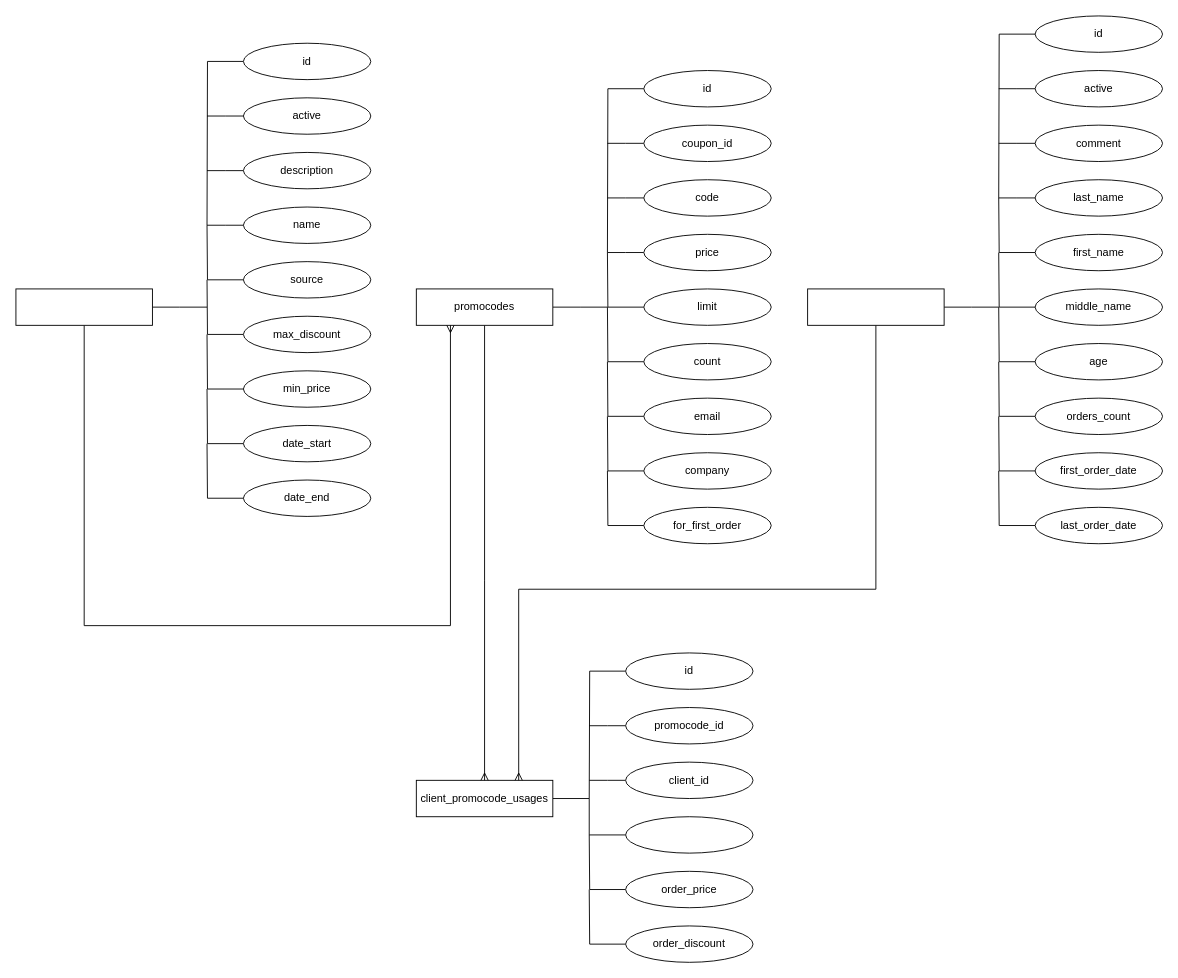
Image size: 1178x978. Some labels were removed from this diagram. Each missing label, with the centre of its shape:
added_at: the point at 689,834
clients: the point at 875,306
coupons: the point at 83,306
